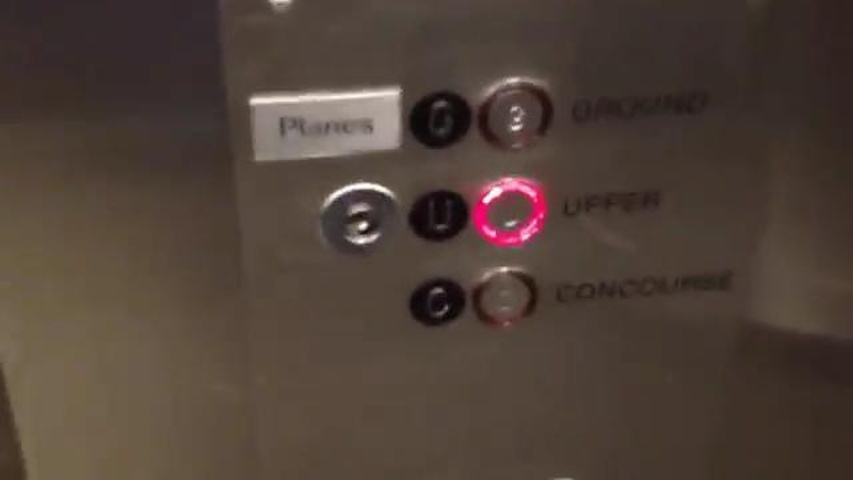3: (475, 72, 554, 154)
U: (404, 185, 470, 247)
blur: (471, 174, 549, 250), (404, 86, 473, 152), (472, 265, 542, 330), (405, 274, 469, 331)
keyhole: (316, 179, 402, 261)
